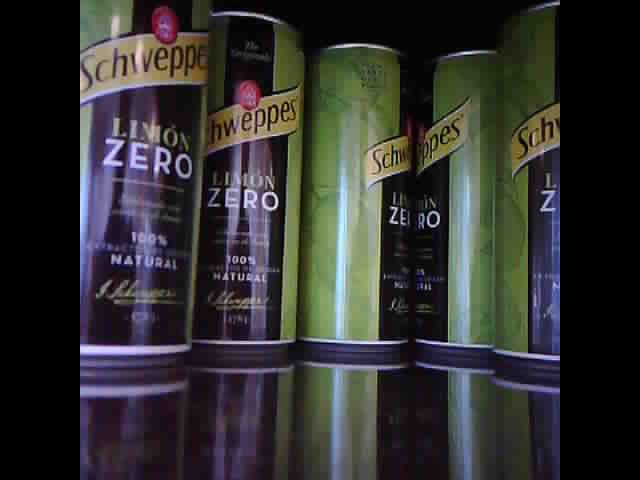schweppes: (80, 2, 209, 369), (192, 12, 307, 353), (304, 35, 418, 355), (413, 40, 501, 355), (489, 9, 560, 368)
